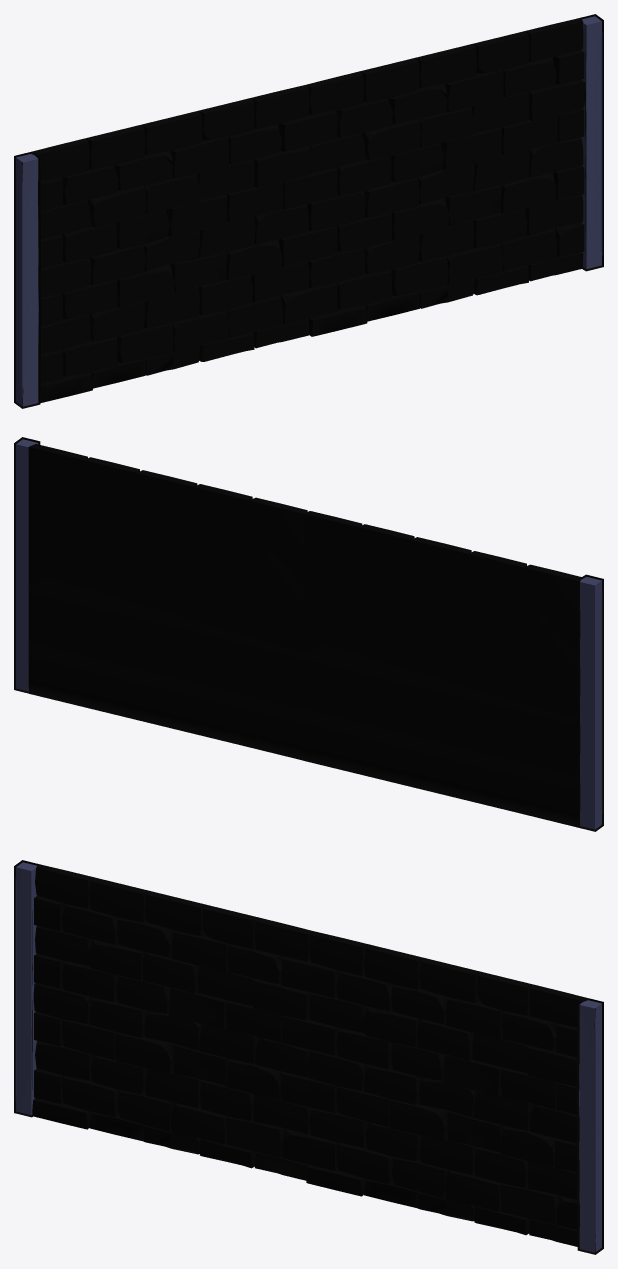
File: Floor.fbx
3 renders of one model, top to bottom at view 1: azimuth 30°, elevation 25°; view 2: azimuth 150°, elevation 25°; view 3: azimuth 330°, elevation 25°, orthographic.
Visible parts, largest first — view 1: Wall_27; view 2: Wall_27; view 3: Wall_27.
Part boxes in pixels (bbox=[...]): Wall_27: bbox=[14, 14, 603, 408]; Wall_27: bbox=[14, 437, 603, 831]; Wall_27: bbox=[14, 860, 603, 1254].
Bounding box in the file's own units: 846 × 344 × 22.13.
